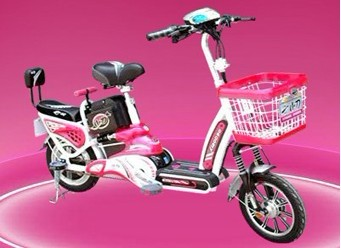电动车: (12, 1, 316, 242)
